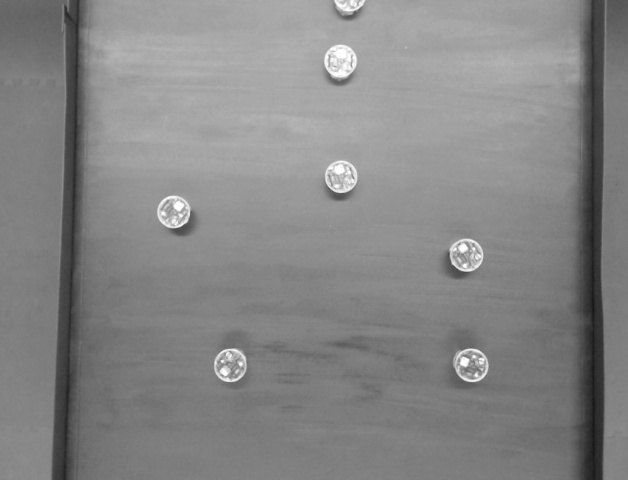epuck_2: (315, 38, 364, 84), (151, 192, 200, 236), (443, 235, 489, 280), (446, 343, 490, 390), (211, 345, 250, 386), (323, 156, 361, 198), (336, 1, 369, 26)
